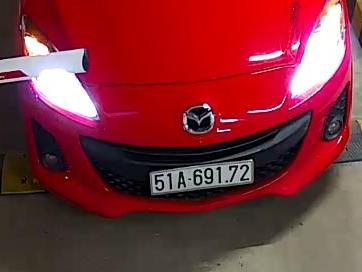number: (147, 159, 255, 199)
